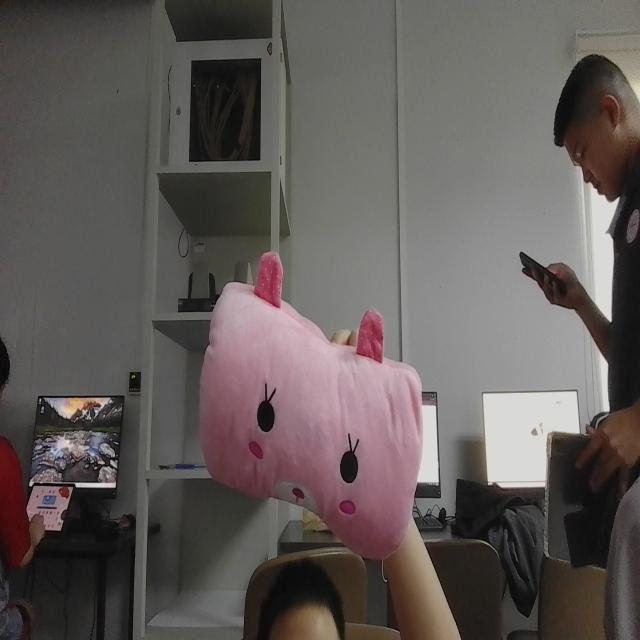pinkpillow: (192, 245, 429, 562)
